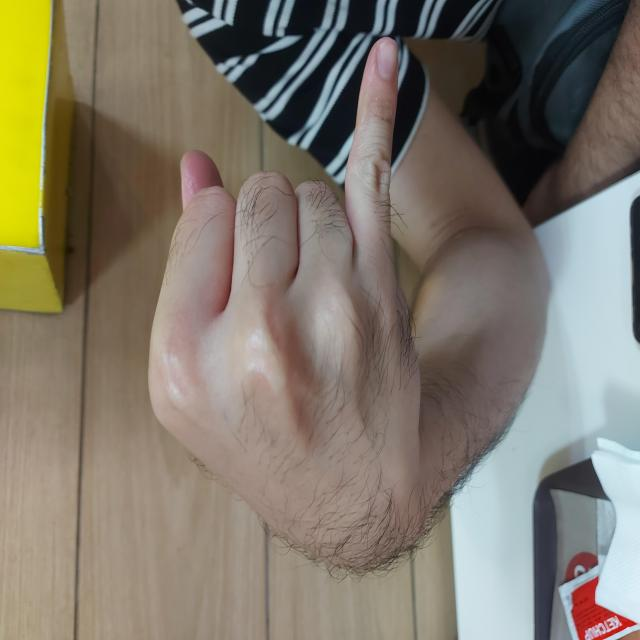J: (72, 146, 609, 427)
